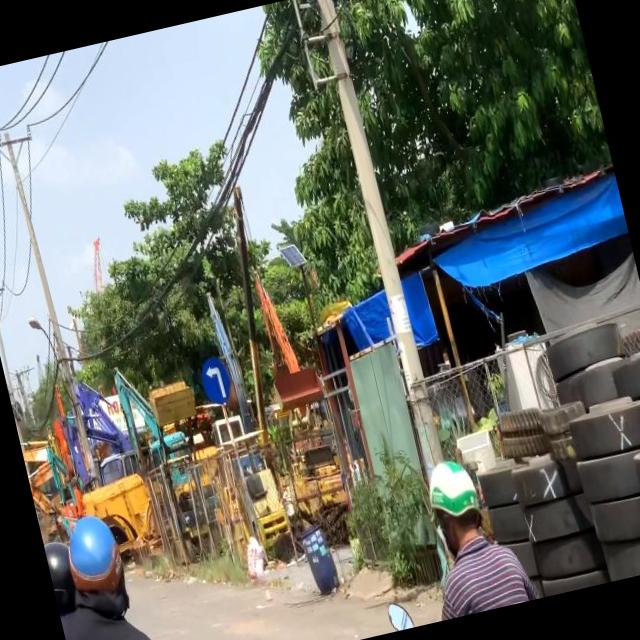R-301e: (199, 356, 231, 404)
